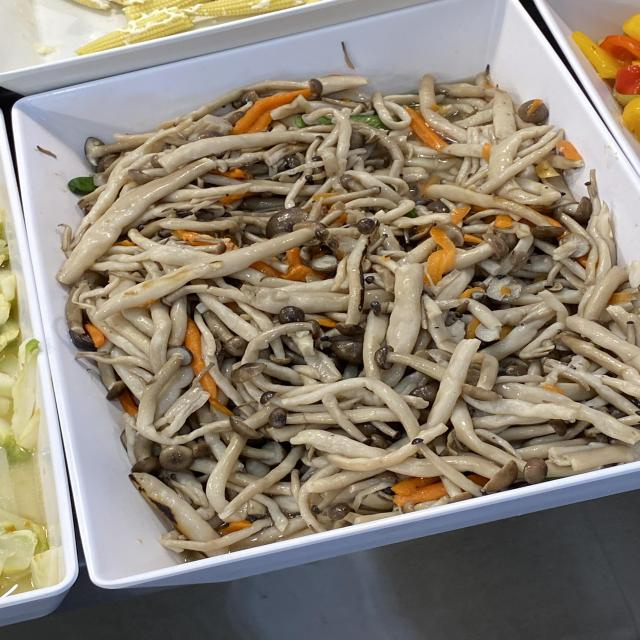brown swordbelt: (150, 168, 585, 451)
